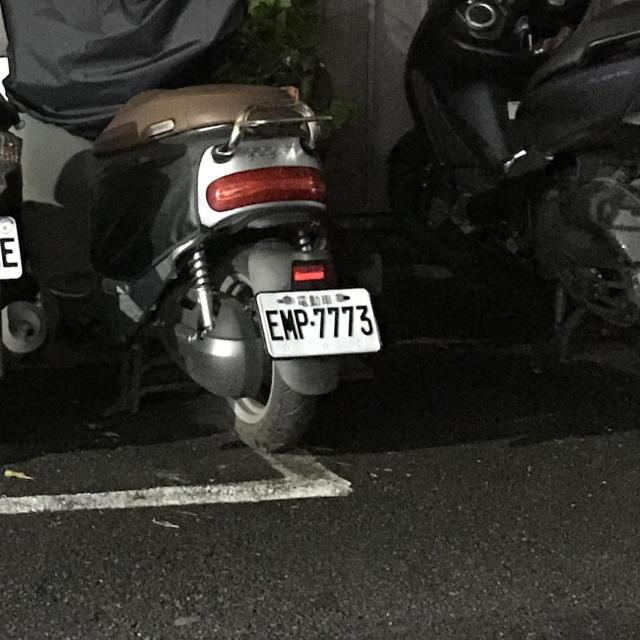W: (250, 274, 383, 366), (0, 209, 26, 292)
